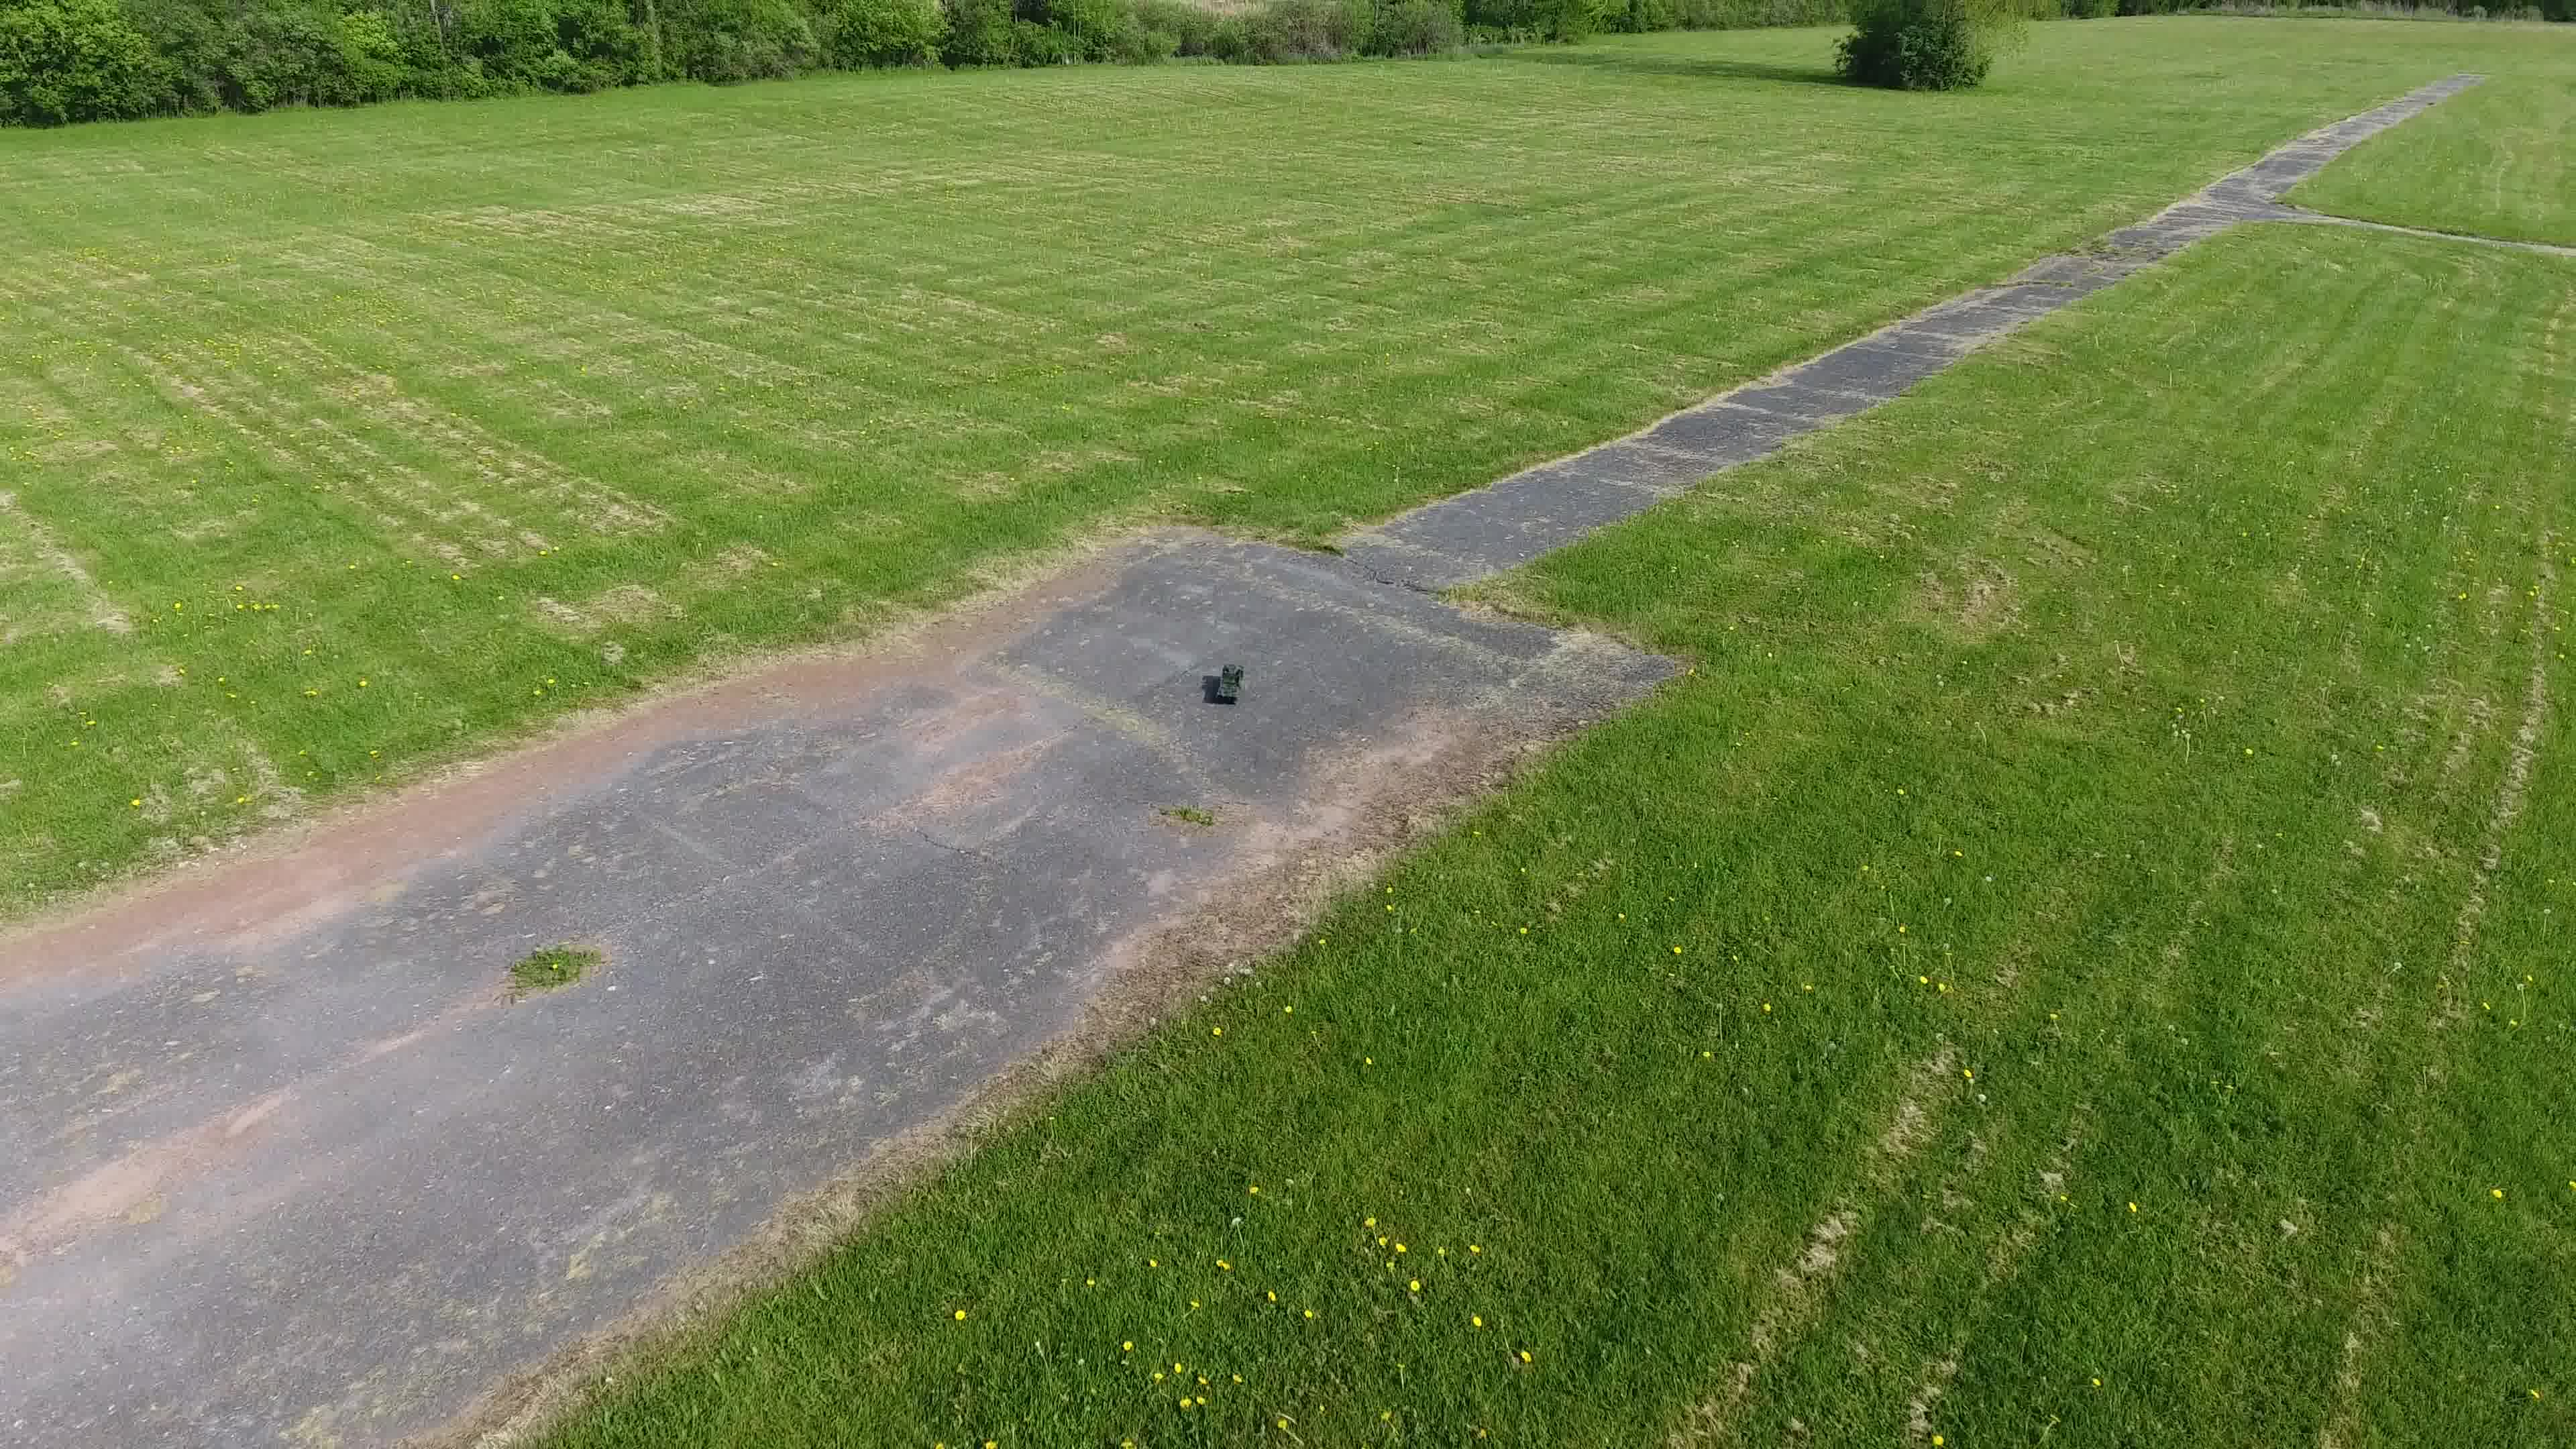transporter9_camo: (1210, 663, 1247, 706)
